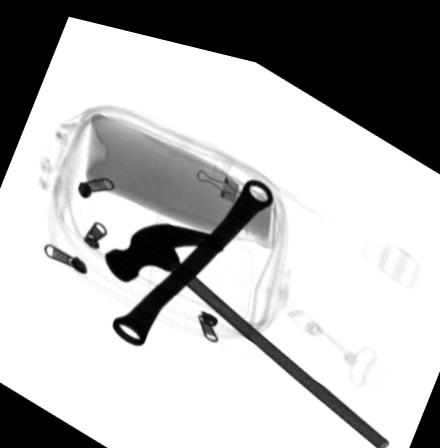Hammer: (102, 213, 388, 432)
Wrench: (110, 166, 272, 338)
